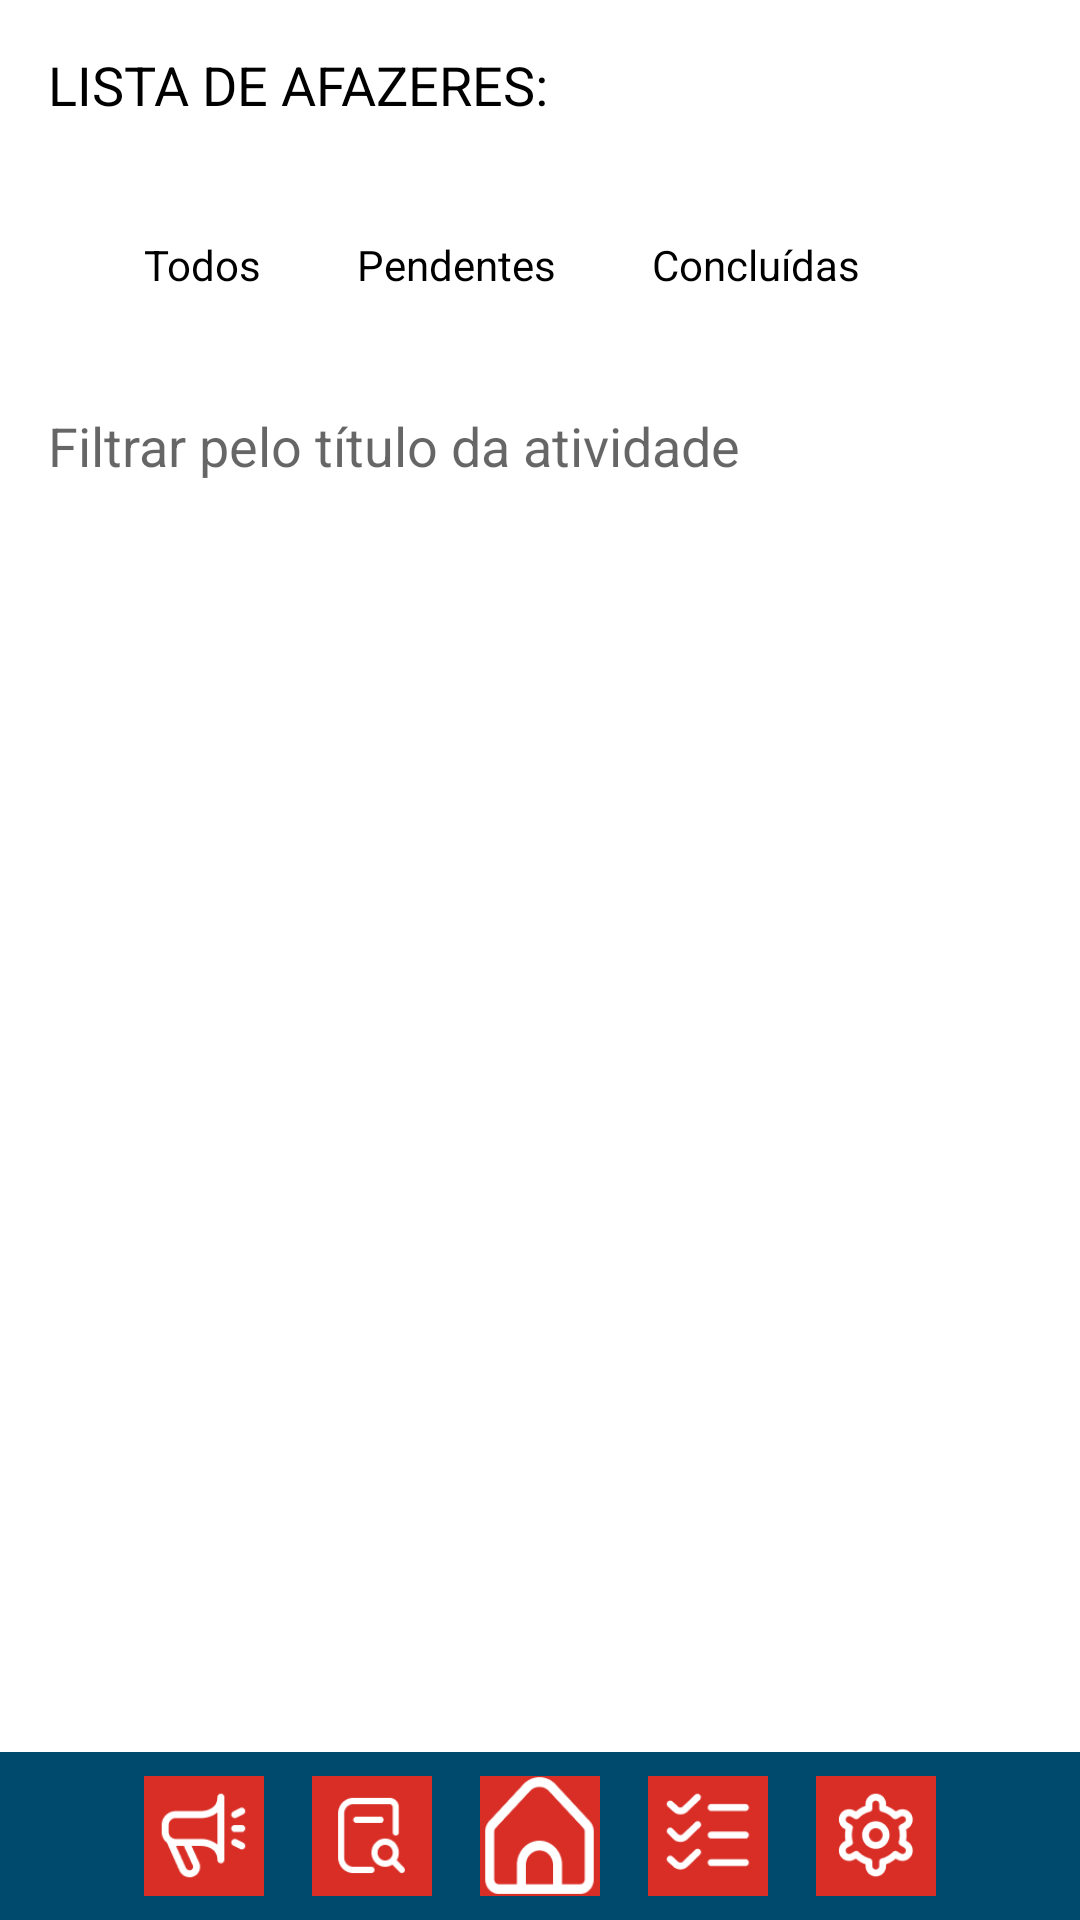

Icons on this 1080x1920 Android screen, each with the point to tap as (x=x, y=y):
feedback: (x=204, y=1836)
feedback pendente: (x=372, y=1836)
home: (x=540, y=1836)
lista afazeres: (x=708, y=1836)
